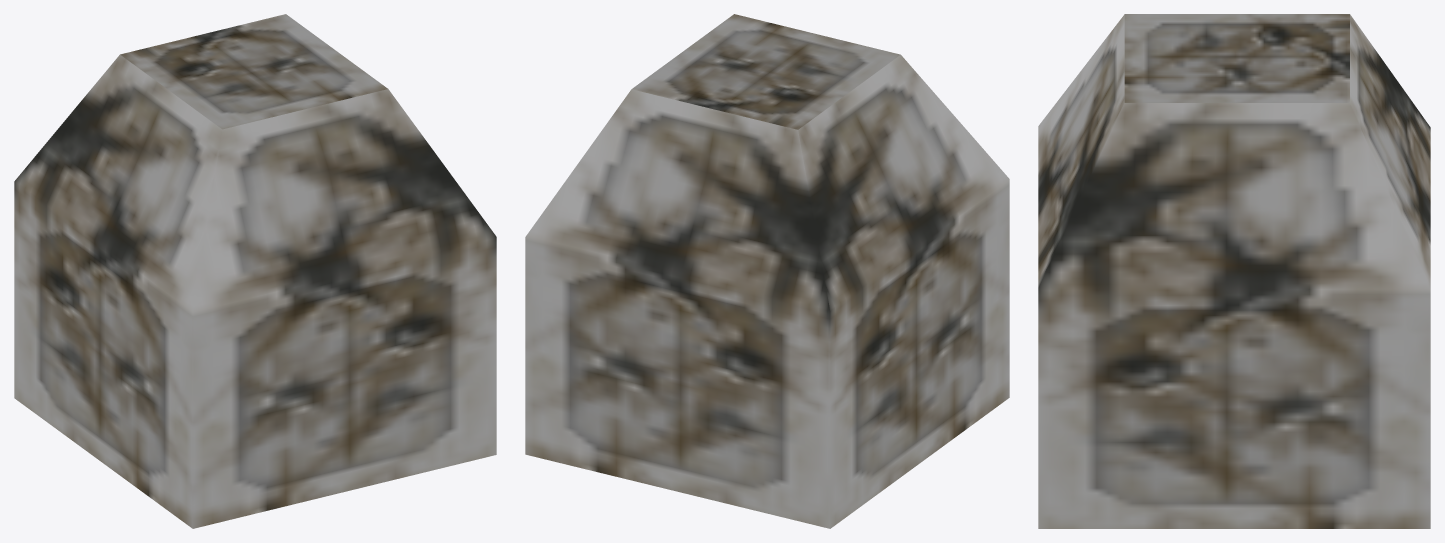
File: l_lightpost_dam.glb
3 renders of one model, left to right at view 1: azimuth 30°, elevation 25°; view 2: azimuth 150°, elevation 25°; view 3: azimuth 270°, elevation 25°, orthographic. The views are drawn at different scales.
Visible parts, largest first — view 1: L_LightWallDAM; view 2: L_LightWallDAM; view 3: L_LightWallDAM.
Boxes of the visible parts, <box> form: L_LightWallDAM: <box>14,14,496,528</box>; L_LightWallDAM: <box>525,14,1009,528</box>; L_LightWallDAM: <box>1038,14,1430,528</box>.
Size of the model in its own units: 4.16 by 4.63 by 4.24.
Materials: 1 (1 with a texture image).
